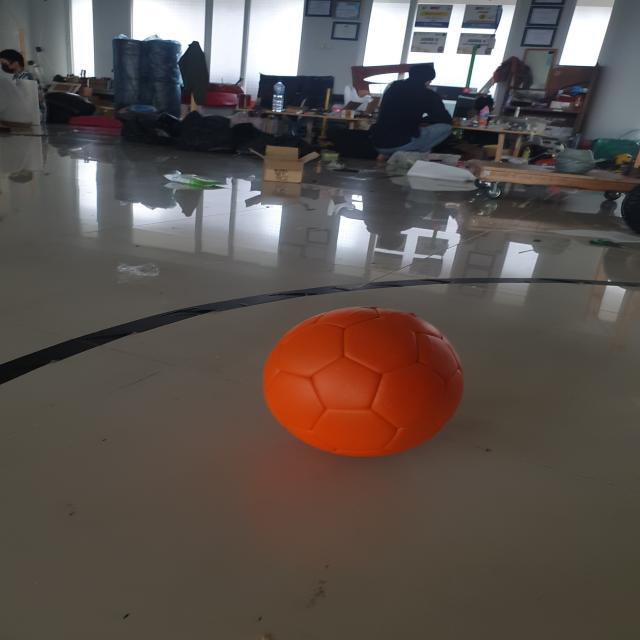bola: (240, 300, 492, 458)
